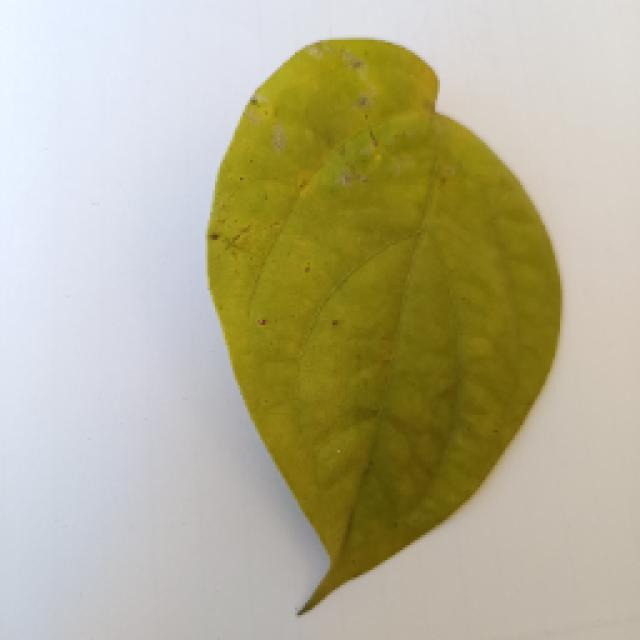slow-decline: (180, 45, 598, 617)
